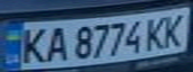4: (124, 17, 148, 54)
7: (106, 19, 130, 56), (90, 20, 112, 57)
8: (69, 22, 93, 61)
A: (39, 24, 72, 63)
K: (15, 25, 51, 65), (157, 10, 193, 47), (142, 13, 172, 51)
